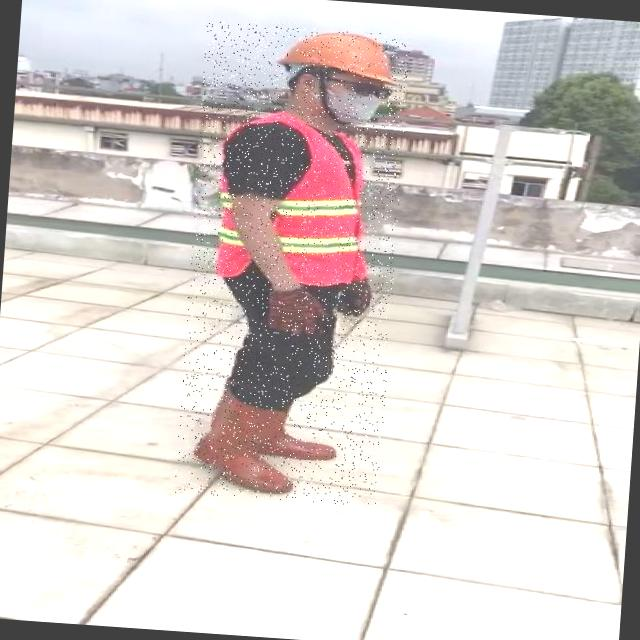boots: (190, 396, 296, 496), (289, 434, 338, 460)
helmet: (279, 26, 400, 80)
vest: (207, 116, 373, 286)
